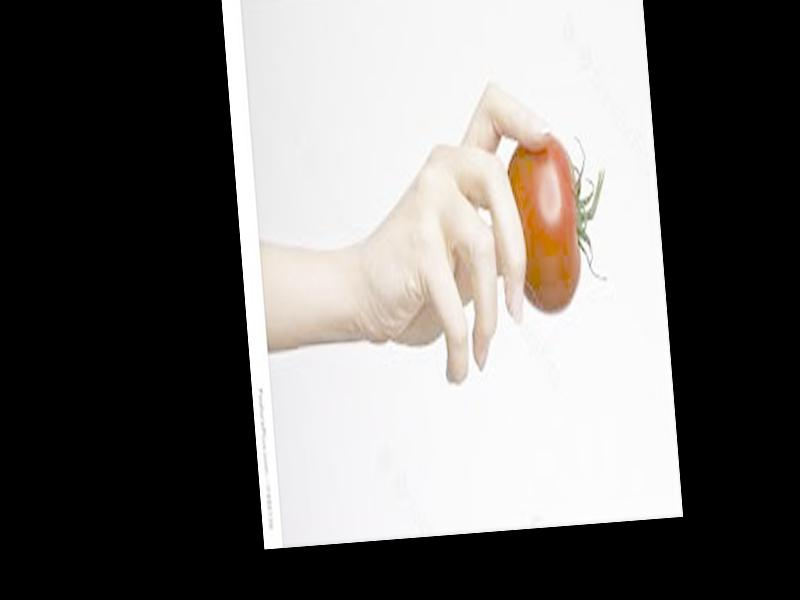Tomato: (506, 131, 613, 314)
